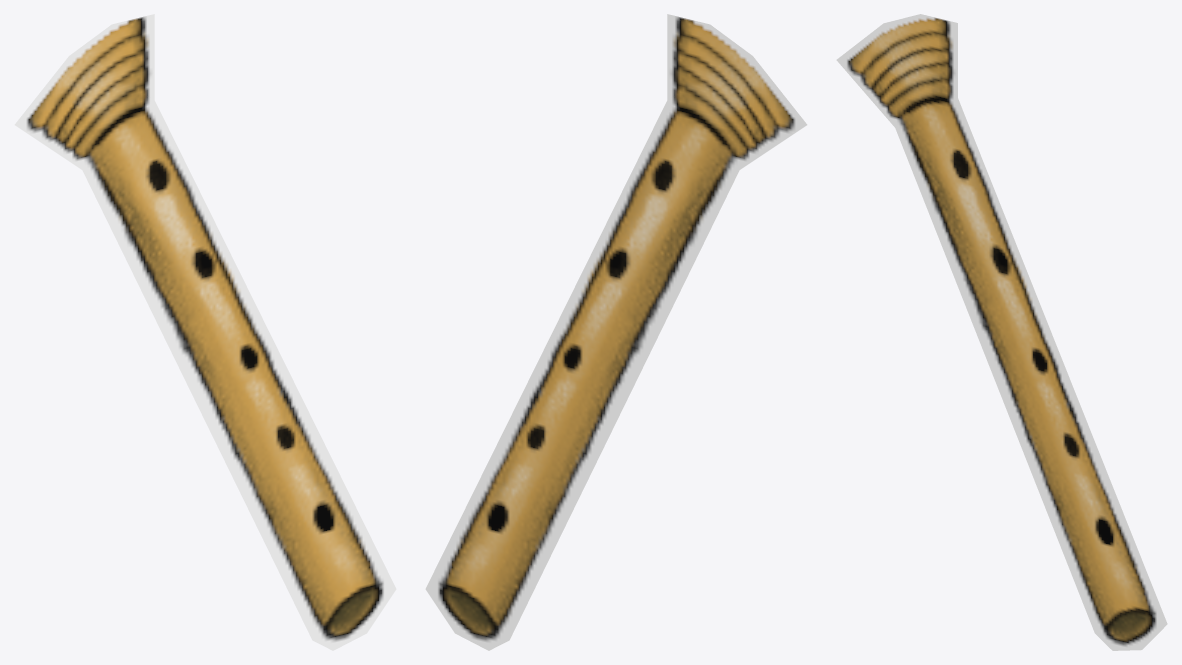
3 views of the same model, side by side, from view 1: azimuth 30°, elevation 25°; view 2: azimuth 150°, elevation 25°; view 3: azimuth 330°, elevation 25° (orthographic). The views are drawn at different scales.
Parts seen in each view (by area): view 1: Plane; view 2: Plane; view 3: Plane.
Part boxes in pixels (left/top/right/bottom): Plane: left=14, top=14, right=396, bottom=650; Plane: left=425, top=14, right=807, bottom=650; Plane: left=836, top=14, right=1167, bottom=650.
Bounding box in the file's own units: 1.26 × 2.14 × 0.
Materials: 1 (1 with a texture image).
